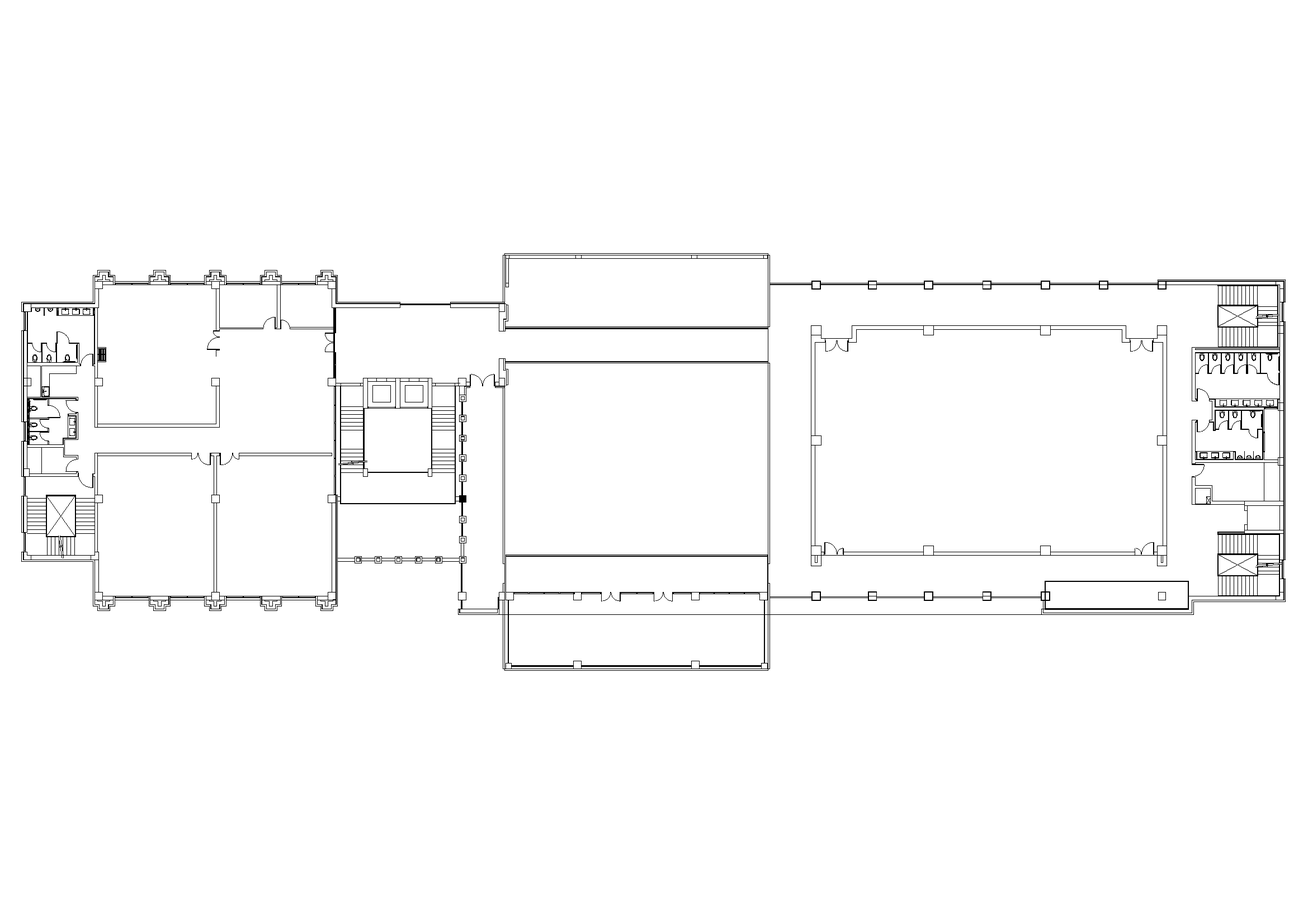door: (1130, 338, 1153, 352), (470, 374, 495, 386), (825, 340, 848, 352), (207, 330, 220, 350), (824, 542, 844, 555), (1135, 542, 1154, 555), (191, 453, 211, 465), (220, 453, 239, 465), (78, 473, 93, 488), (601, 592, 621, 602), (325, 333, 335, 352), (654, 592, 673, 601), (65, 400, 78, 413), (65, 459, 78, 472), (1192, 464, 1205, 477), (57, 331, 69, 344), (80, 354, 93, 366), (48, 405, 60, 418), (263, 317, 276, 329), (1197, 420, 1210, 432), (1267, 373, 1279, 385), (1197, 388, 1210, 399), (1231, 420, 1241, 430), (1198, 364, 1208, 374), (1211, 364, 1221, 374), (1224, 364, 1234, 374), (1237, 364, 1247, 374), (46, 343, 56, 352), (40, 419, 49, 429), (40, 432, 49, 442), (280, 320, 290, 329), (1219, 420, 1228, 430), (1248, 364, 1257, 374), (32, 343, 41, 352), (1249, 429, 1258, 438)
